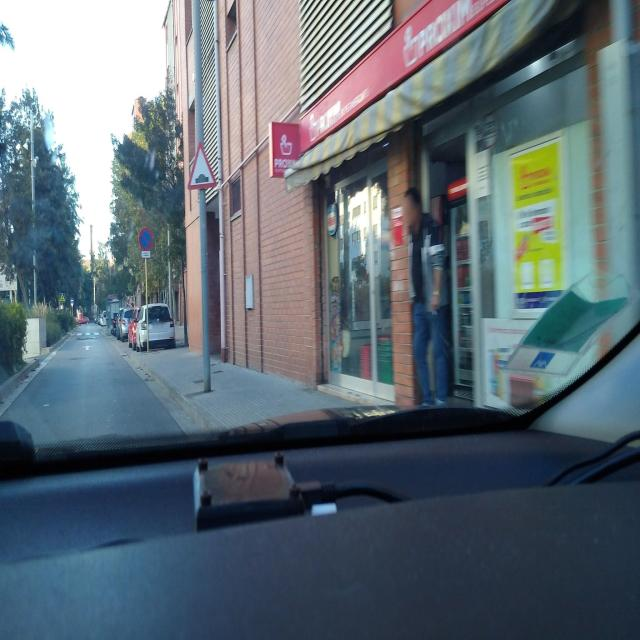forb_stopping: (139, 228, 153, 251)
